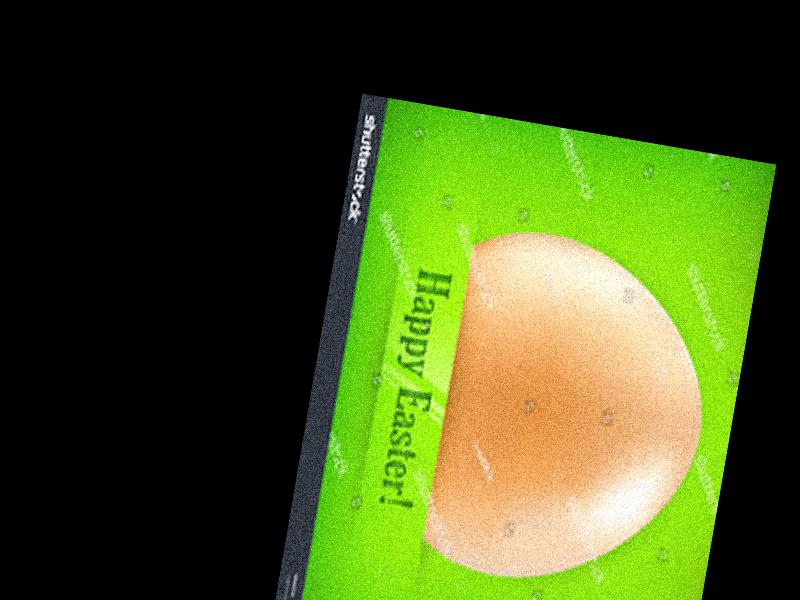Eggs: (419, 223, 729, 600)
